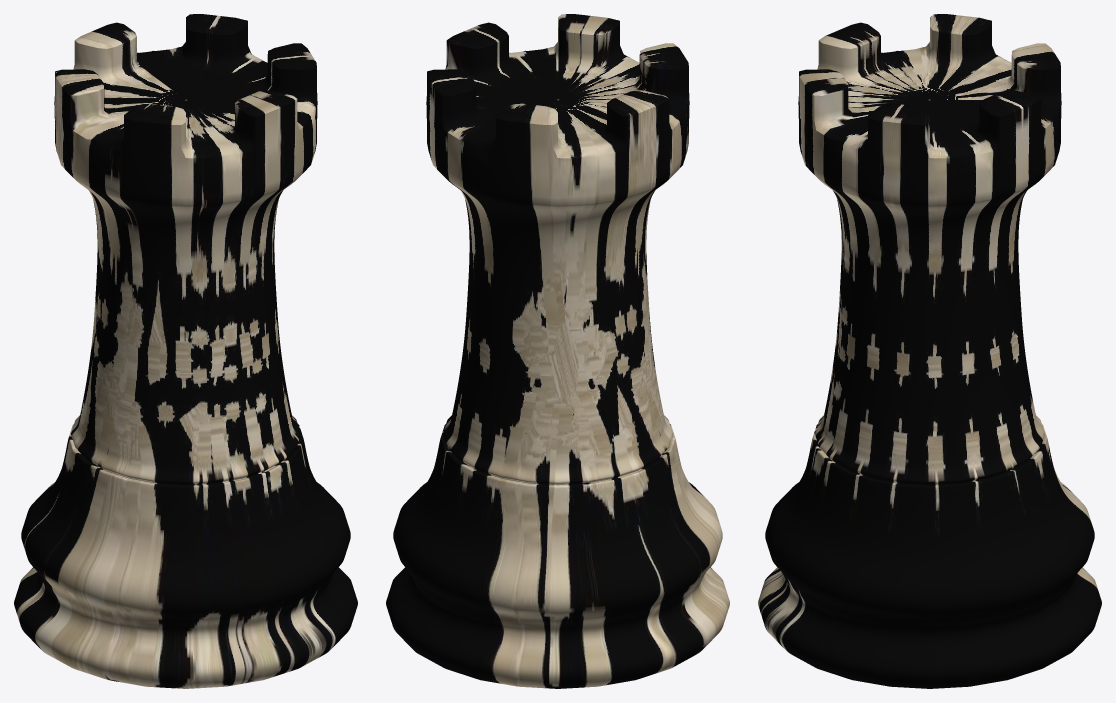
File: rook_light.obj
3 views of the same model, side by side, from view 1: azimuth 30°, elevation 25°; view 2: azimuth 150°, elevation 25°; view 3: azimuth 270°, elevation 25° (orthographic).
Visible parts, largest first — view 1: mesh01; view 2: mesh01; view 3: mesh01.
Boxes of the visible parts, left/top/right/bottom form: mesh01: left=14, top=14, right=357, bottom=688; mesh01: left=386, top=14, right=729, bottom=688; mesh01: left=758, top=14, right=1101, bottom=688.
Size of the model in its own units: 13.12 by 23.88 by 13.12.
1 material, 1 textured.
